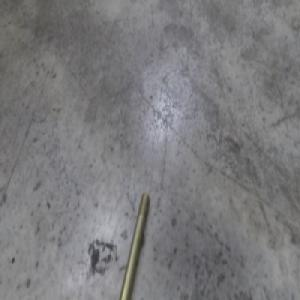Bolt: (118, 192, 148, 299)
